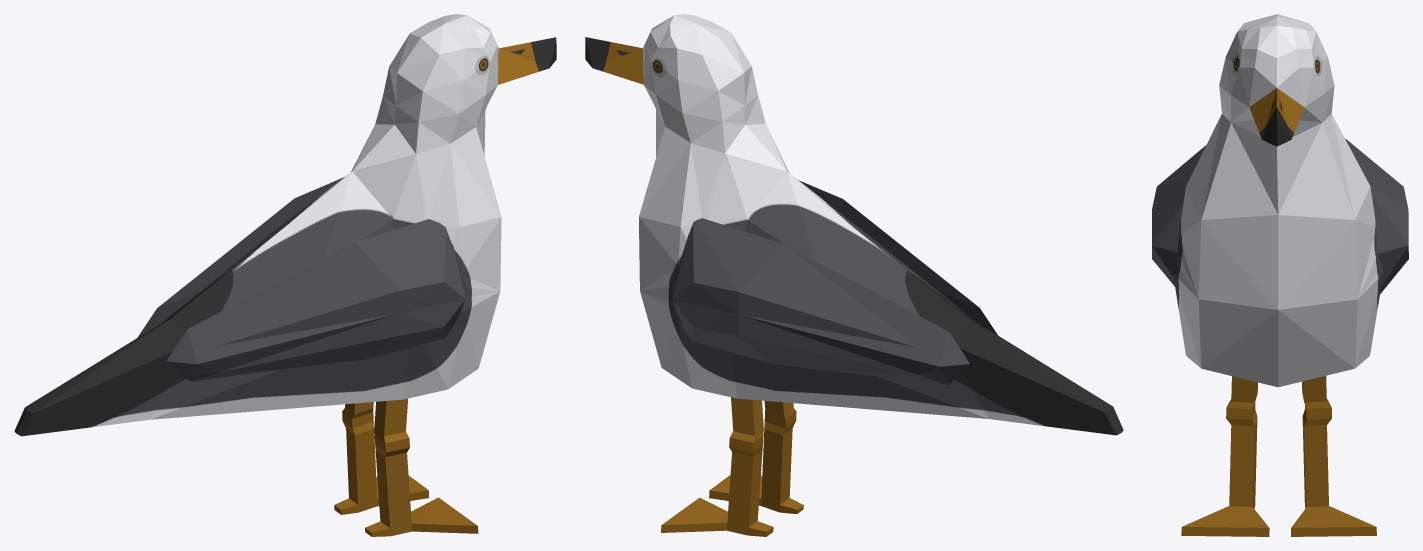
3 renders of one model, left to right at view 1: azimuth 30°, elevation 25°; view 2: azimuth 150°, elevation 25°; view 3: azimuth 270°, elevation 25°, orthographic. The views are drawn at different scales.
Visible parts, largest first — view 1: Gull; view 2: Gull; view 3: Gull.
Part boxes in pixels (box(x1,y1,x2,y2)): Gull: box(14, 14, 556, 536); Gull: box(585, 14, 1123, 536); Gull: box(1152, 14, 1408, 536).
Bounding box in the file's own units: 65.38 × 55.97 × 24.5.
Materials: 1 (1 with a texture image).
